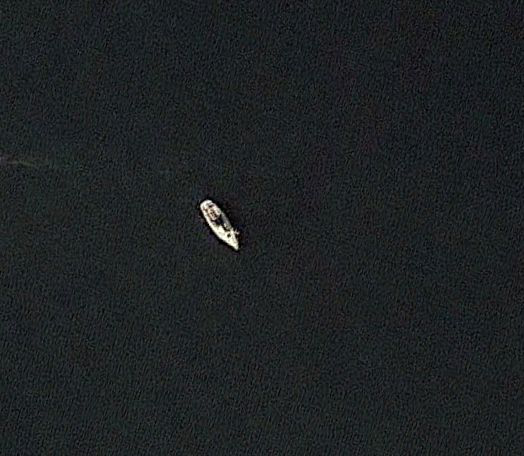boat: (196, 198, 243, 253)
